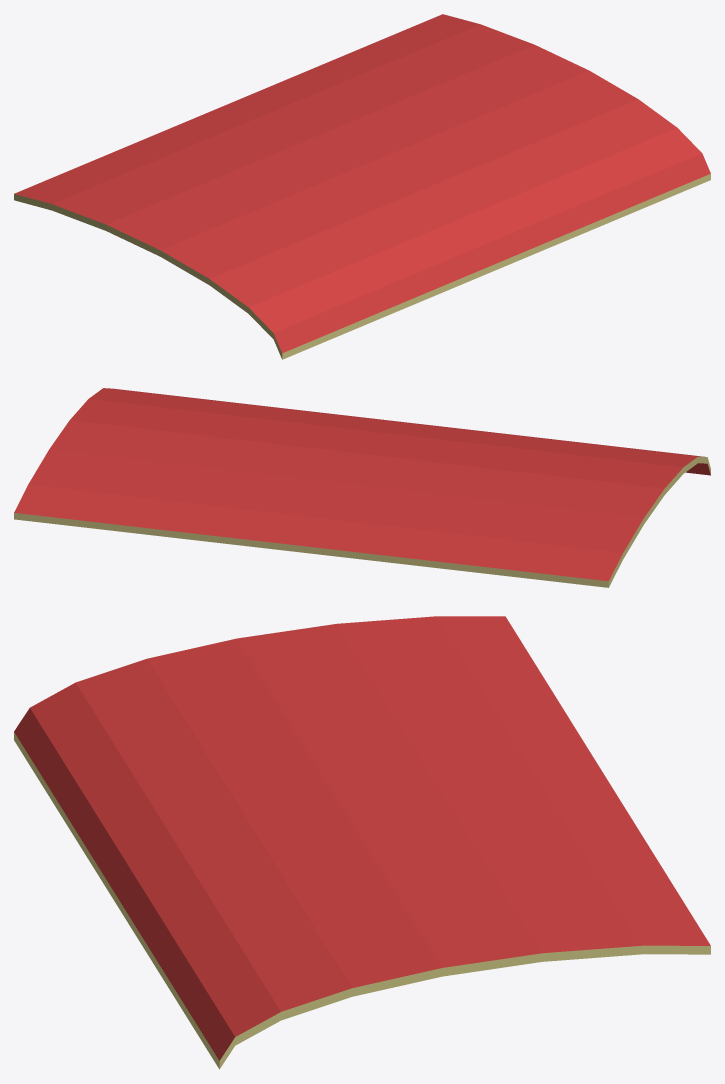
The picture shows the model from 3 angles, top to bottom: view 1: azimuth 30°, elevation 25°; view 2: azimuth 150°, elevation 25°; view 3: azimuth 270°, elevation 25°; orthographic projection. The views are drawn at different scales.
Bounding box in the file's own units: 9.52 × 7.3 × 0.93.
